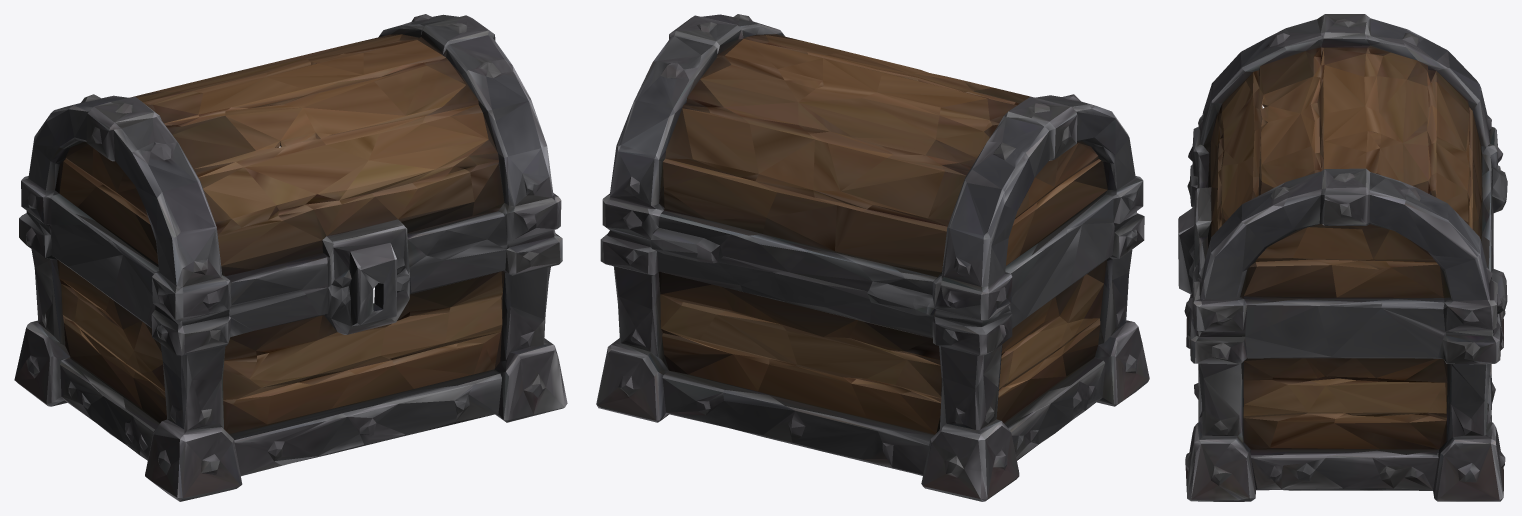
File: SM_TreasureChest.glb
The picture shows the model from 3 angles, left to right: view 1: azimuth 30°, elevation 25°; view 2: azimuth 150°, elevation 25°; view 3: azimuth 270°, elevation 25°; orthographic projection. The views are drawn at different scales.
Bounding box in the file's own units: 1.71 × 1.37 × 1.3.
Materials: 1 (1 with a texture image).
